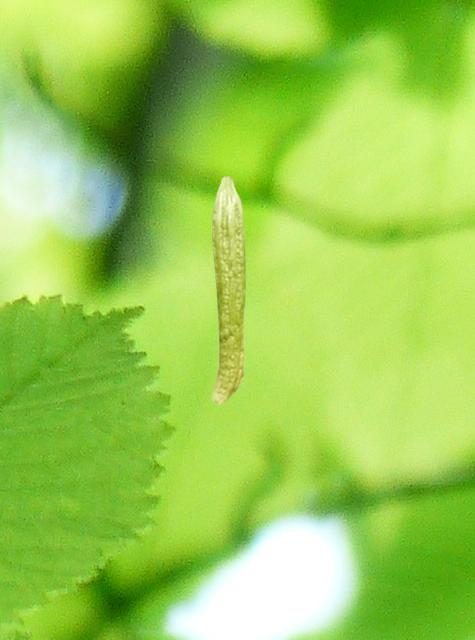ampalaya: (209, 174, 247, 406)
